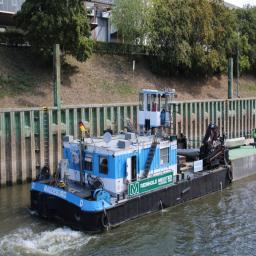tugboat: (28, 89, 237, 238)
